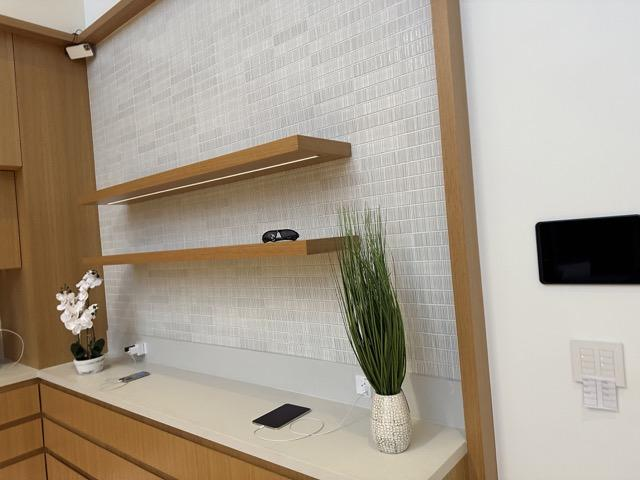Sunglasses: (263, 227, 300, 243)
